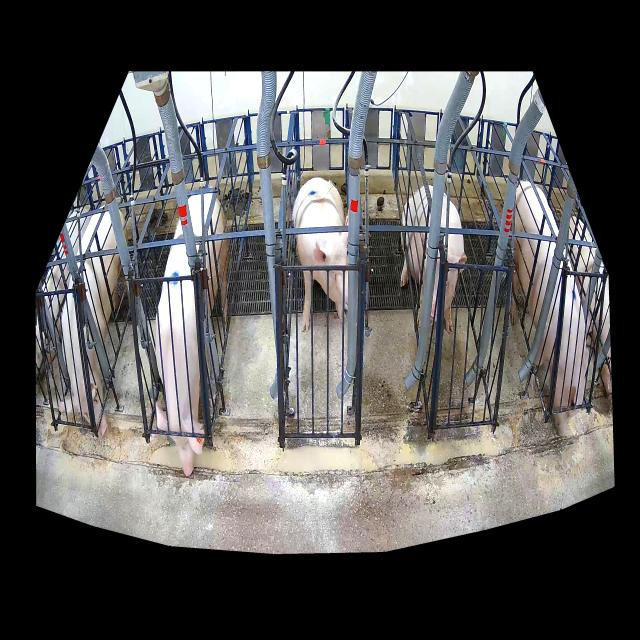pig: (156, 193, 229, 476), (510, 181, 589, 436), (58, 212, 130, 438), (401, 185, 467, 332), (293, 177, 349, 332)
